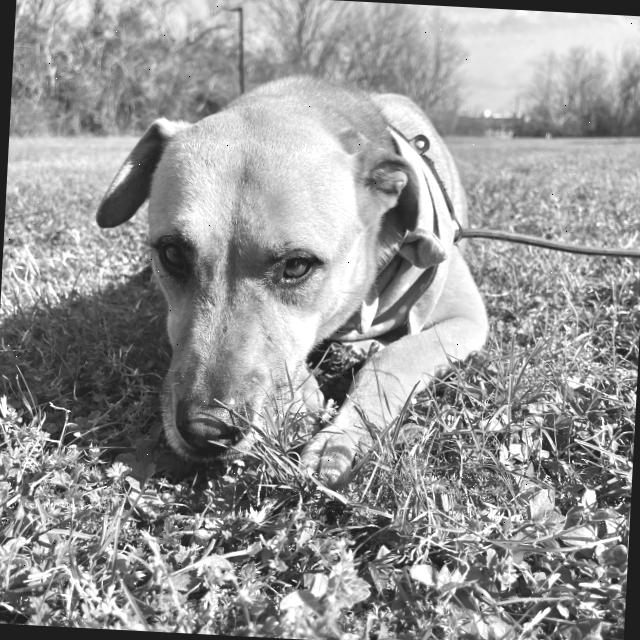labrador_retriever_dog: (74, 54, 516, 536)
